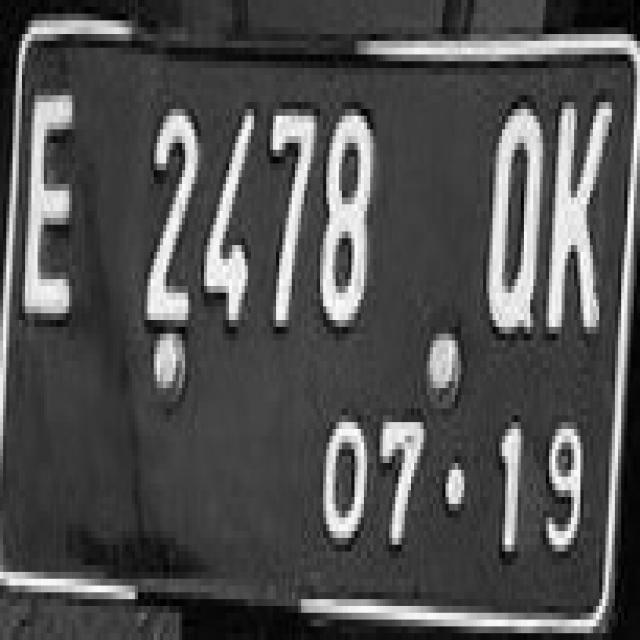2: (150, 96, 197, 324)
4: (208, 103, 256, 334)
7: (266, 110, 312, 342)
8: (318, 108, 386, 339)
E: (21, 78, 82, 339)
K: (533, 101, 617, 343)
Q: (483, 105, 539, 348)
